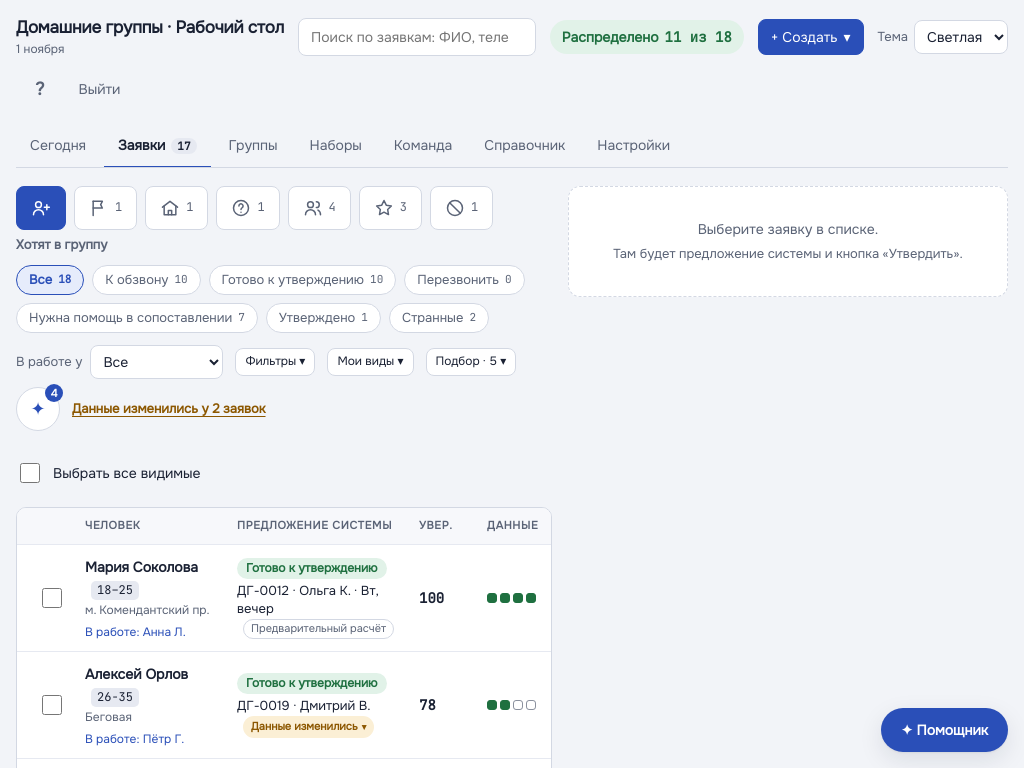
Test: «Заявки»: экран › корзина «Перезвонить» без заявок показывает пустое состояние, а не ломается
Step 1. Click the button "Перезвонить 0" → (464, 280), box [404,265,525,295]
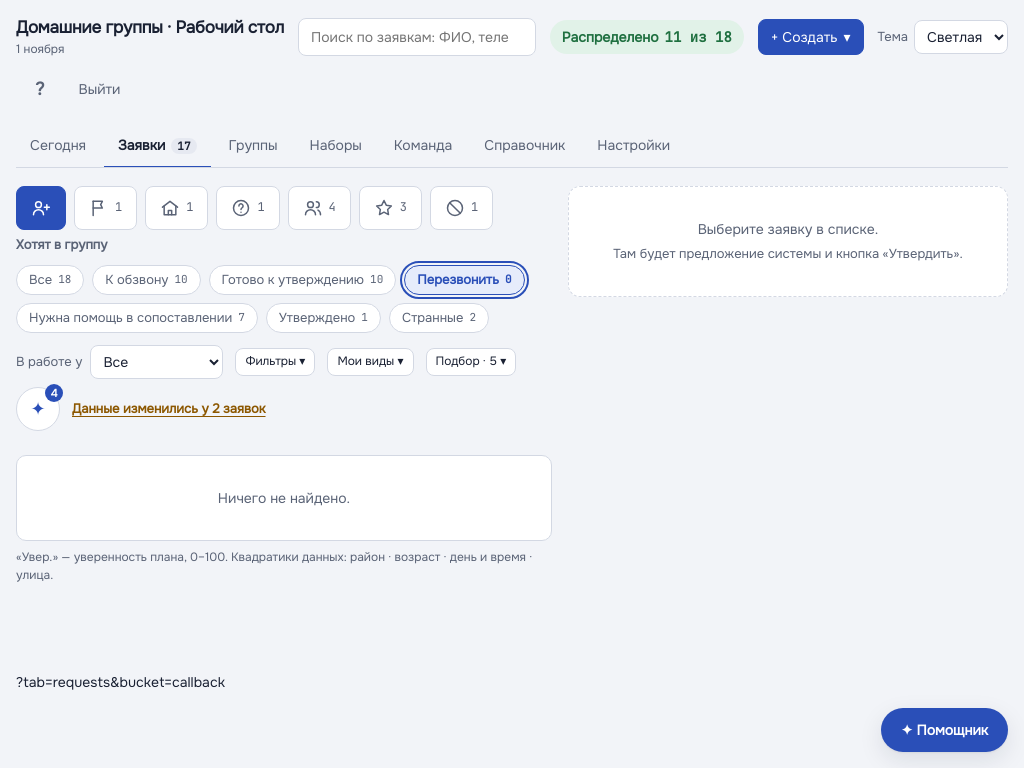
expect the text "Ничего не найдено." is shown: met, box [218,489,350,507]
